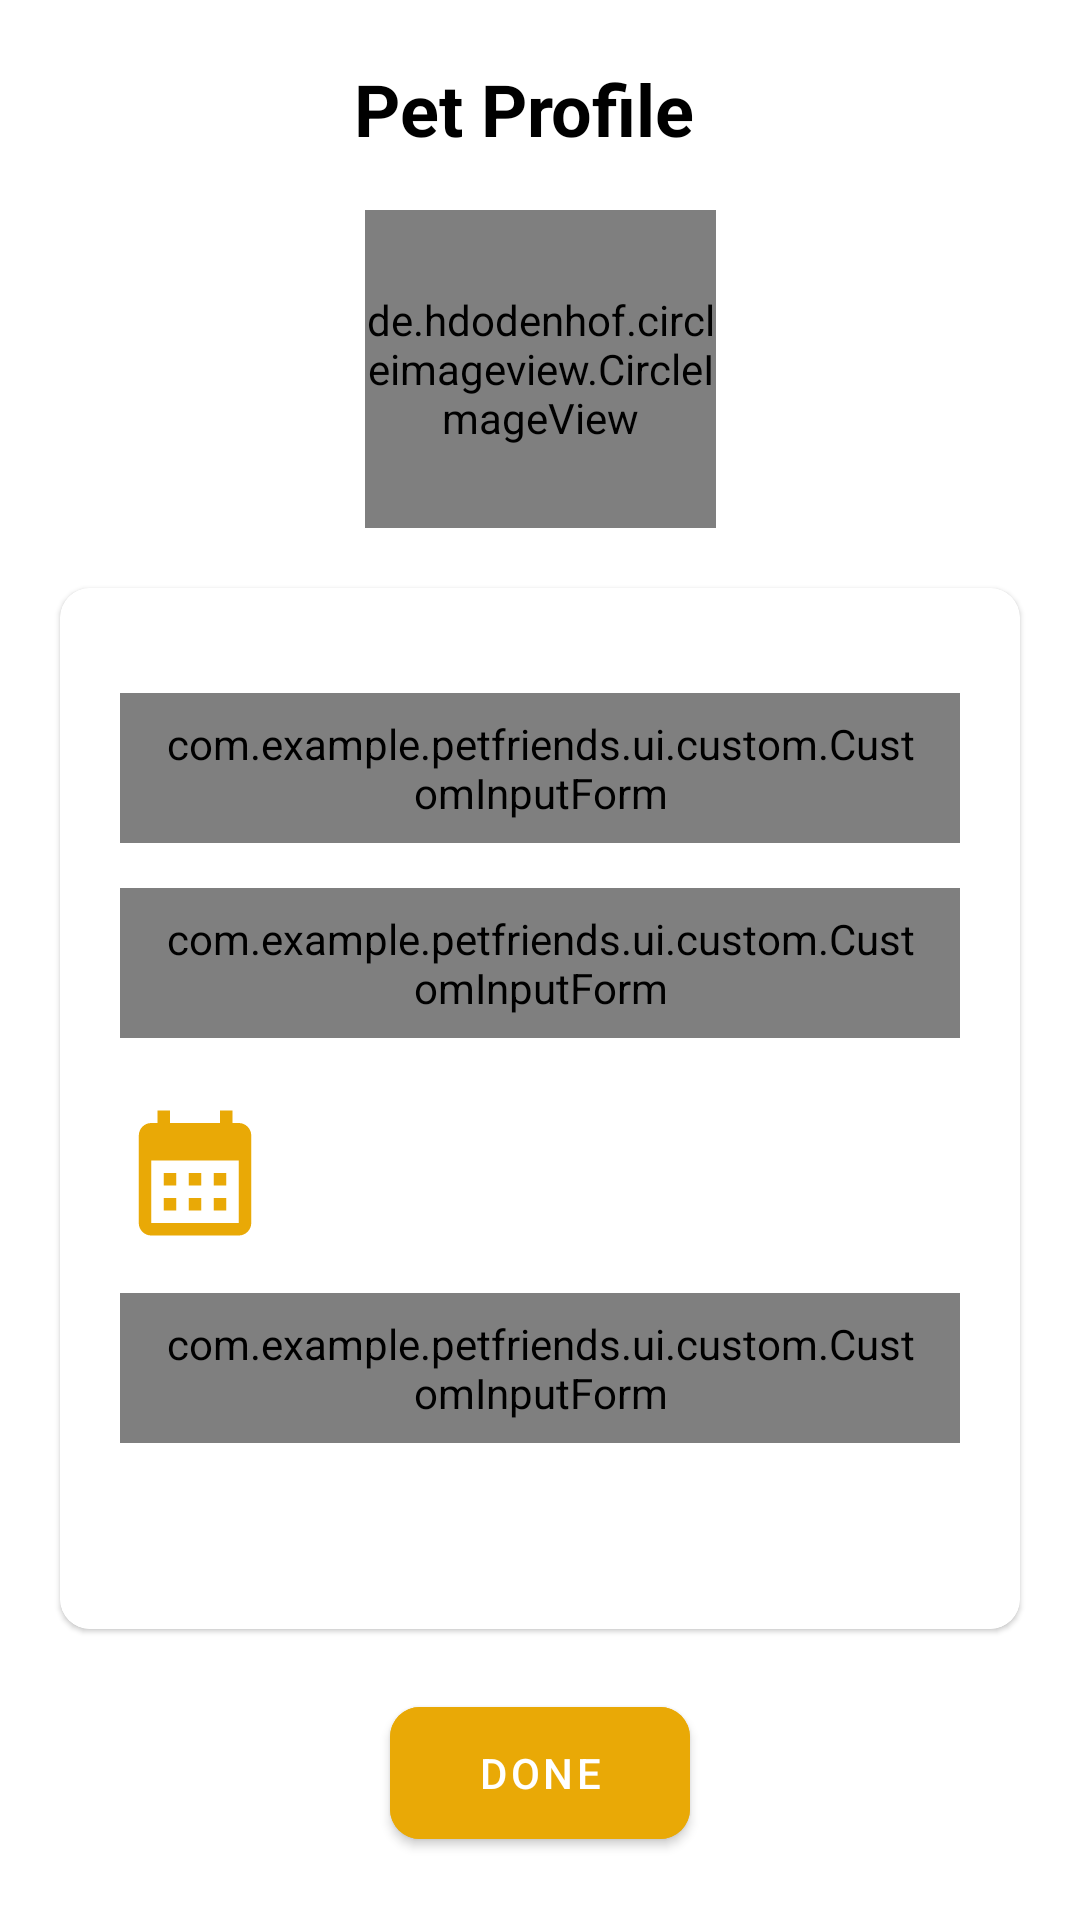

Icons on this 1080px x 1920px Android screen, each with the point to tap as (x=x, y=y):
calendar month: (x=195, y=1173)
